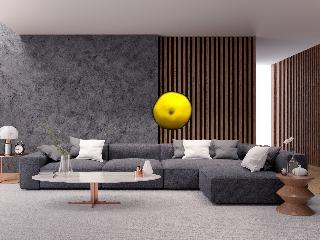lemon: (155, 92, 192, 128)
